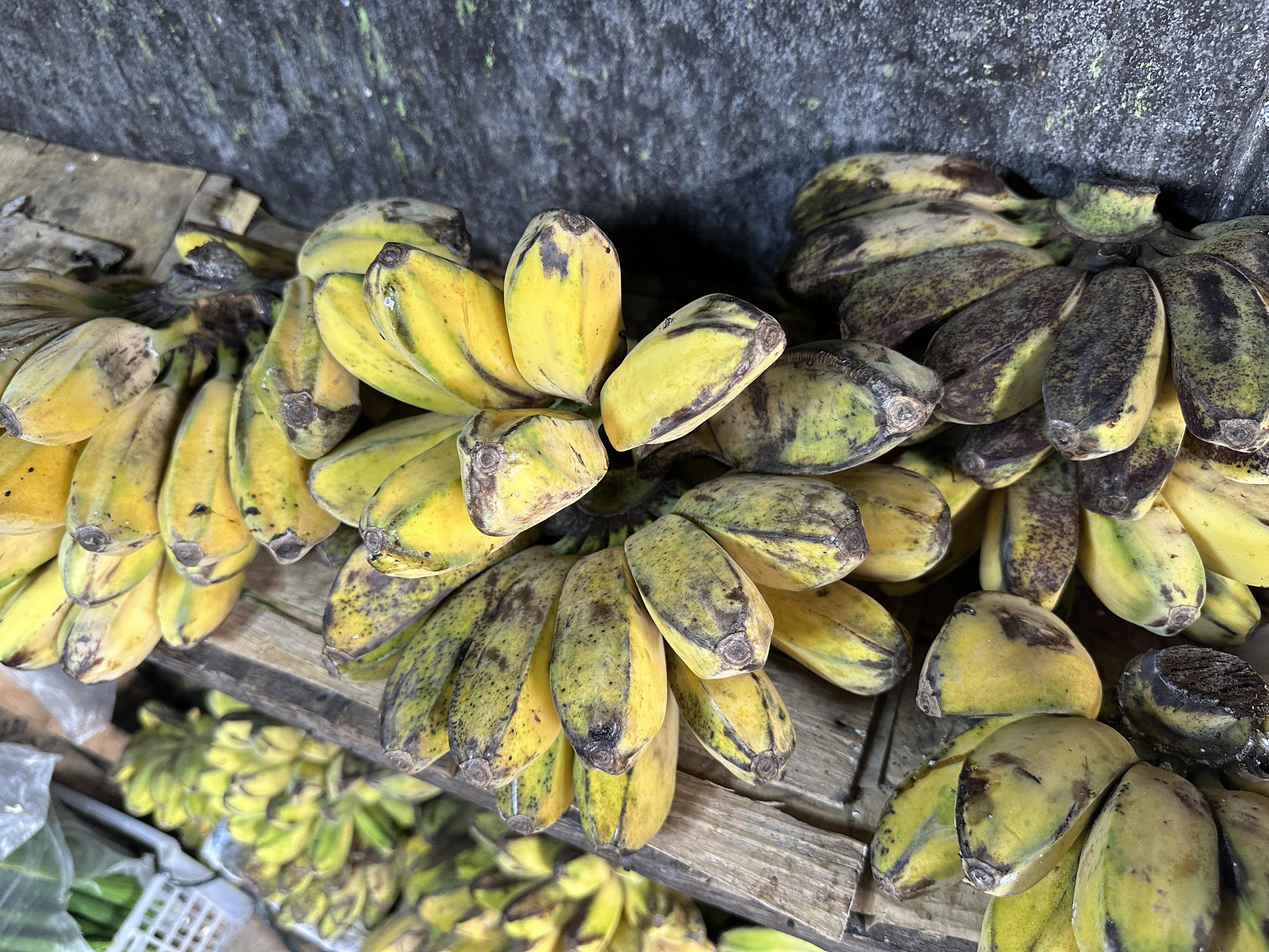underripe: (324, 341, 951, 852), (785, 154, 1269, 643), (299, 199, 785, 577), (0, 271, 360, 686), (868, 591, 1269, 952)
